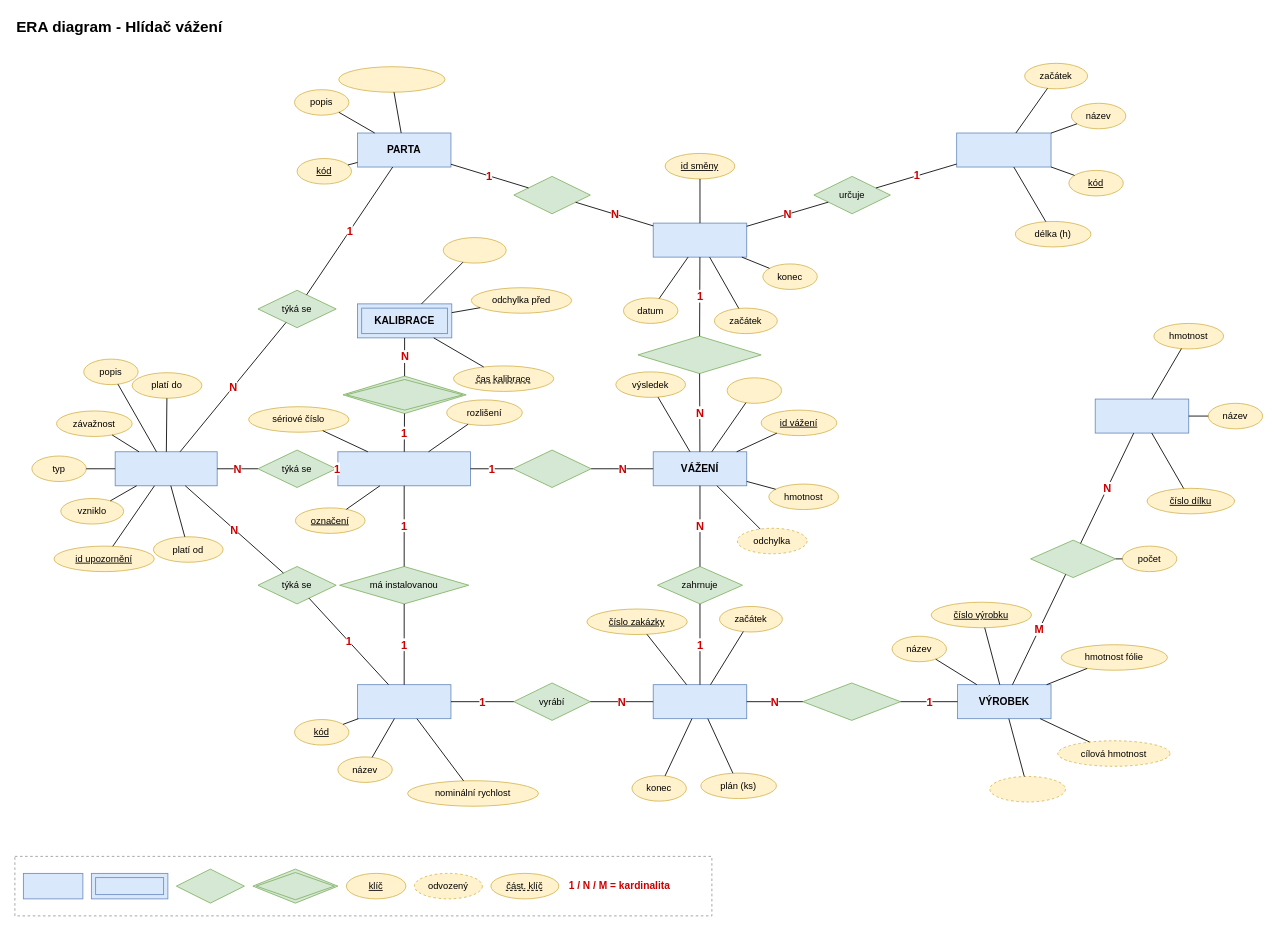
This 1278x931 diagram has some shape labels left out. The shapes that lost their labels are listed below. From the top down, each one's centre as x and y in pixels, then its label:
At (x=391, y=79): "posun v rotaci".
At (x=1003, y=149): "TYP SMĚNY".
At (x=551, y=195): "slouží".
At (x=474, y=250): "provedl".
At (x=699, y=239): "SMĚNA".
At (x=699, y=354): "proběhlo během".
At (x=404, y=394): "je kalibrována".
At (x=754, y=390): "čas".
At (x=1141, y=415): "DÍLEK".
At (x=165, y=468): "UPOZORNĚNÍ".
At (x=403, y=468): "KONTROLNÍ VÁHA".
At (x=551, y=468): "změřila".
At (x=1073, y=558): "obsahuje".
At (x=404, y=701): "LINKA".
At (x=699, y=701): "ZAKÁZKA".
At (x=851, y=701): "je vyráběn".
At (x=1027, y=789): "tolerance".
At (x=53, y=886): "entita".
At (x=129, y=886): "slabá entita".
At (x=210, y=885): "vztah".
At (x=295, y=885): "identifikační".
